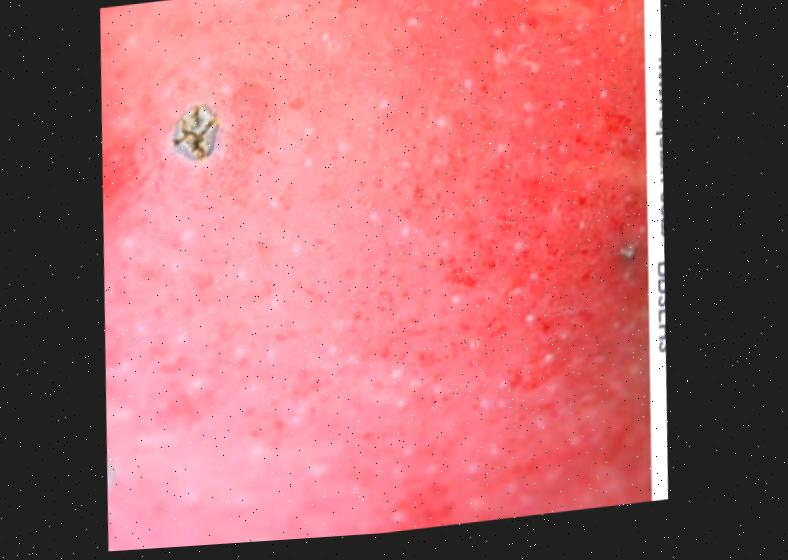SCAB: (78, 0, 664, 553)
